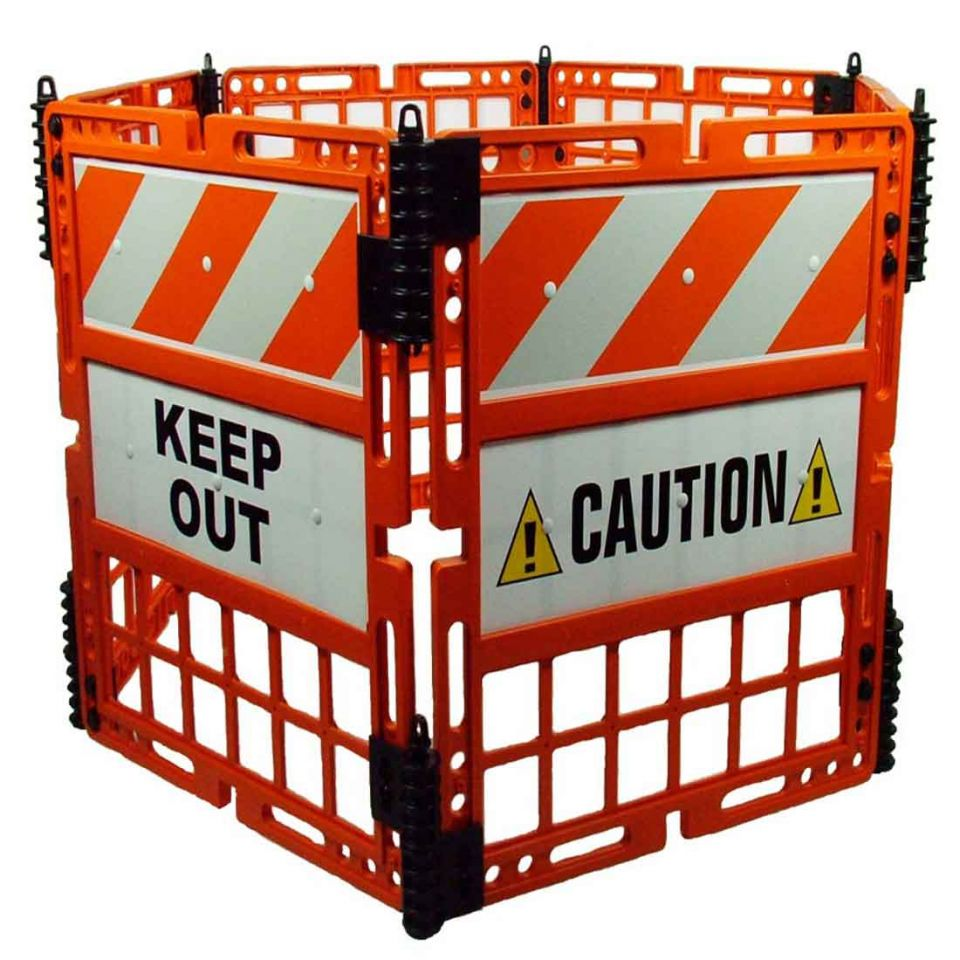Barrier: (11, 31, 943, 937)
